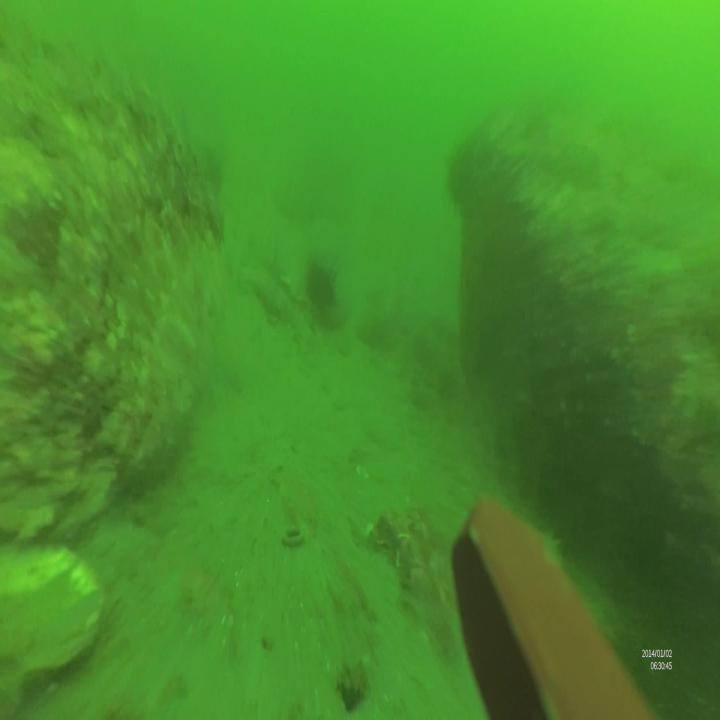echinus: (302, 258, 338, 320)
scallop: (0, 536, 103, 695)
